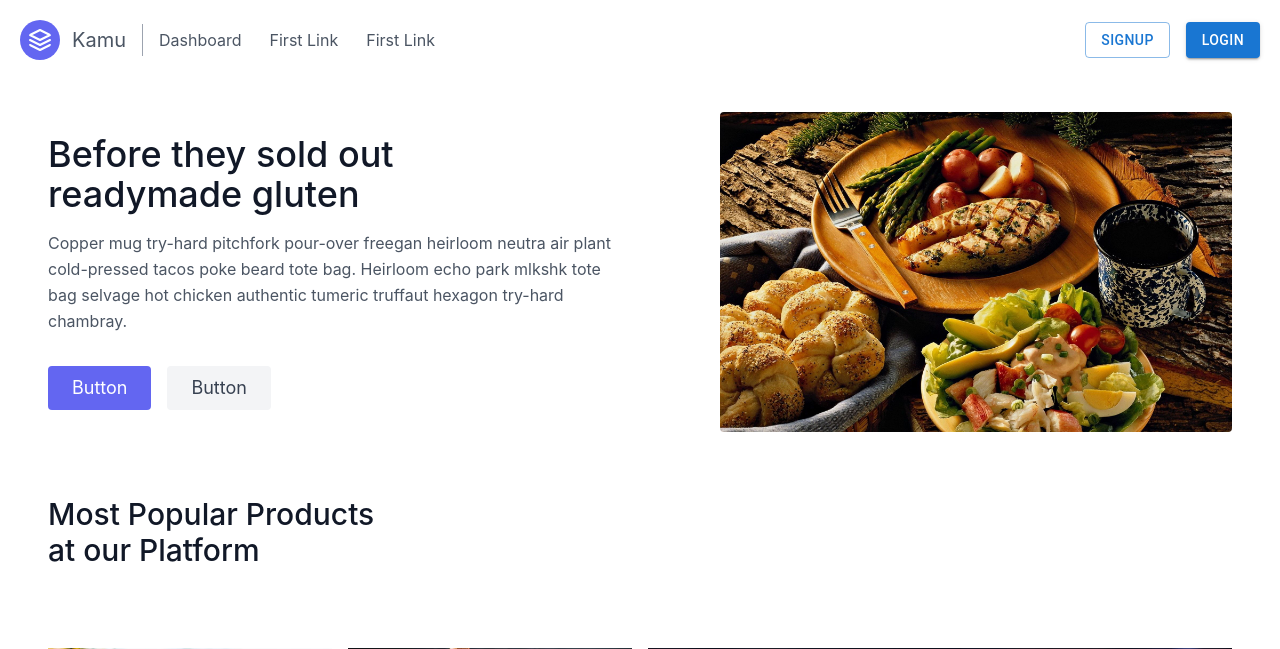
it: Authentication › Failed to Login Customer Dashboard
This screenshot has width=1280, height=649.
Click the button "Login" at (1223, 41), box [1186,22,1260,59]
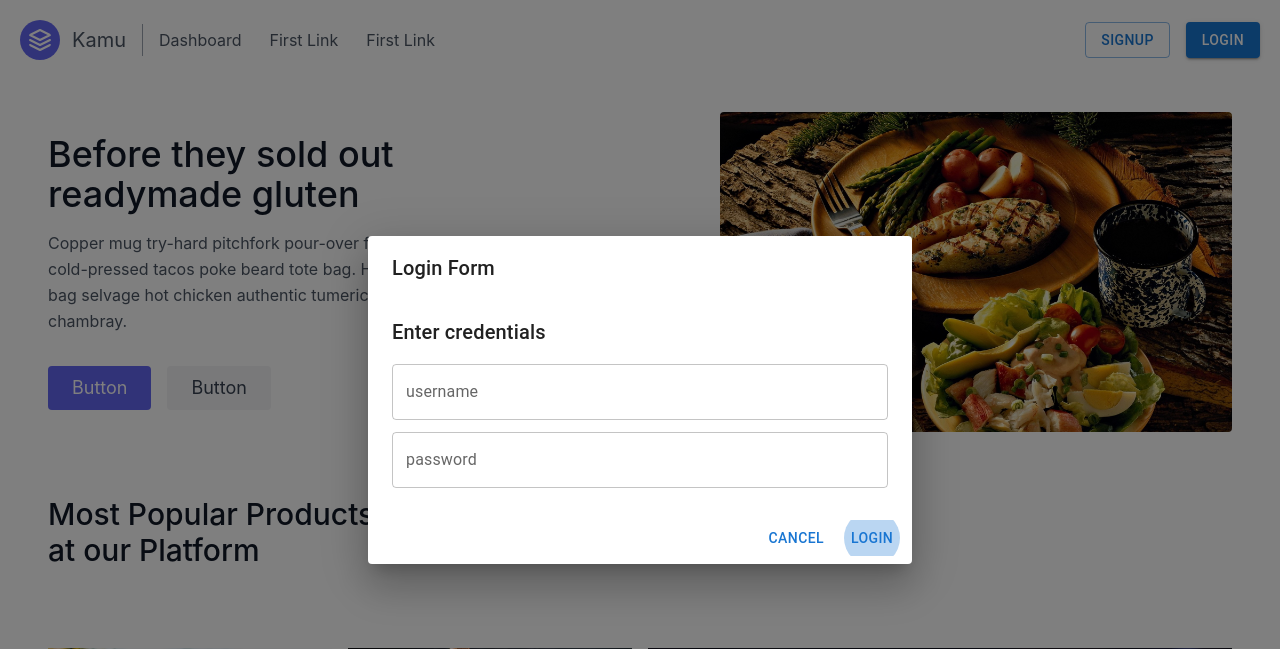
Type "abdul" into the field with id "username" at (640, 392), box [392,364,888,420]
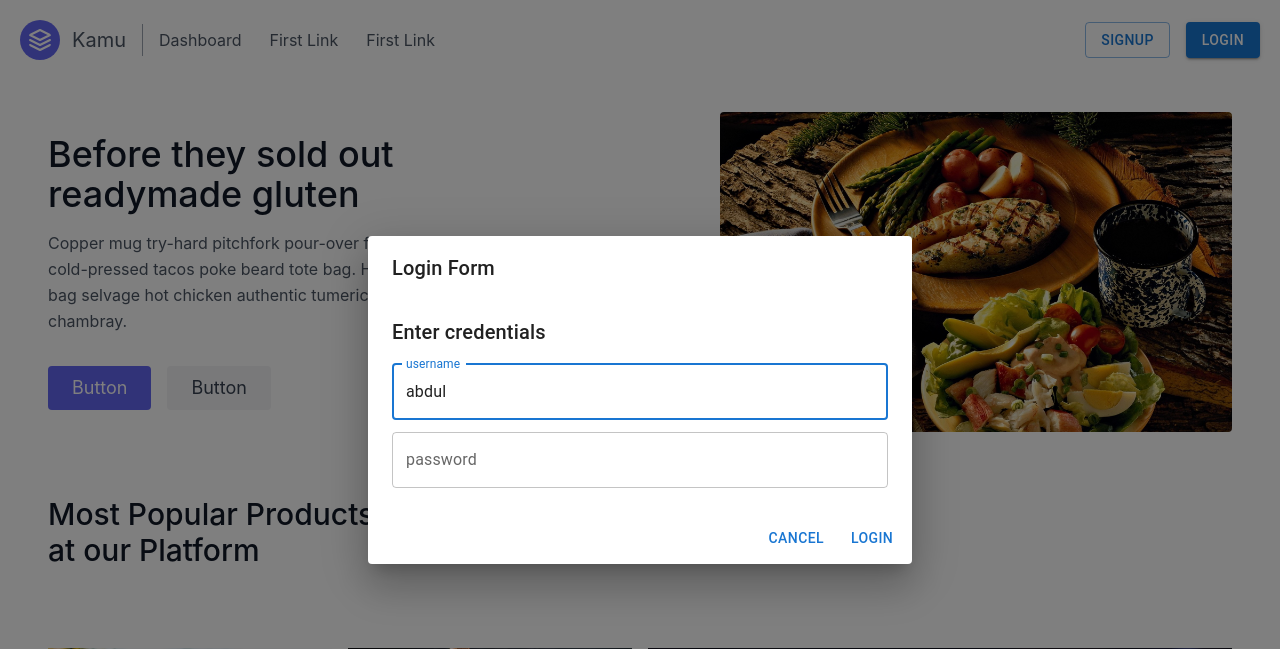
Type "password" into the password field labelled "password" at (640, 460), box [392,432,888,488]
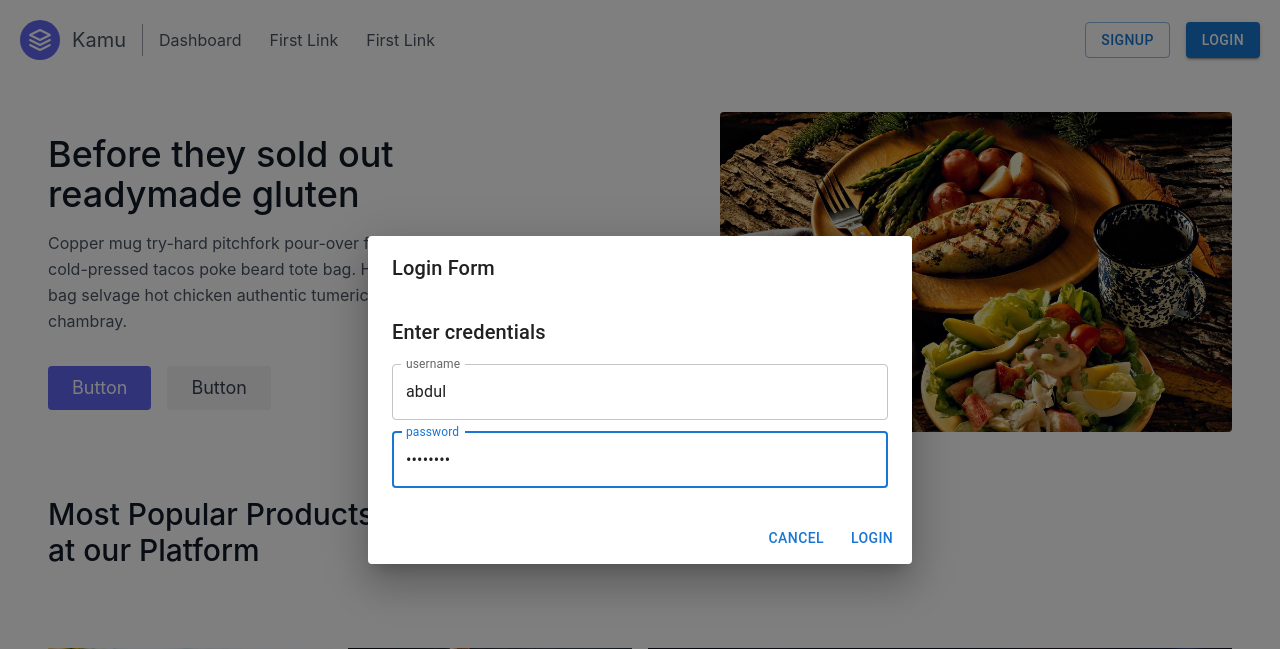
Submit the form with id "login-form", box [368,300,912,565]
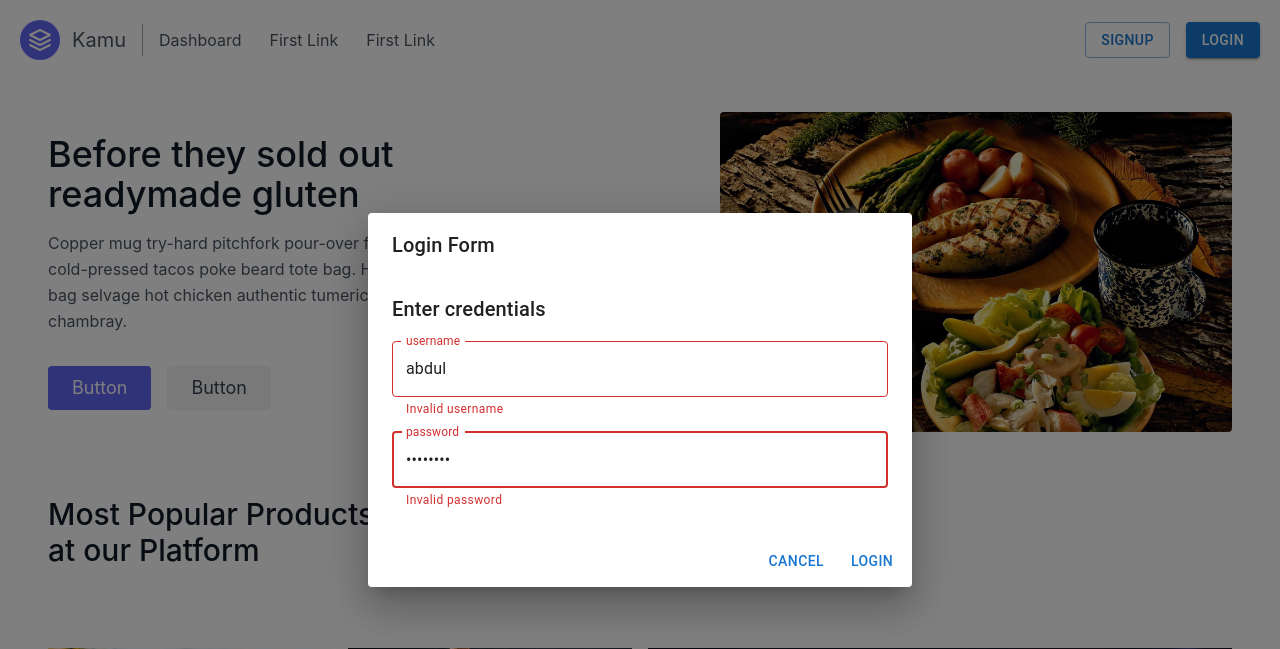
Expected: the text with id "login-form" reads "Invalid username", [406,402,503,416]
